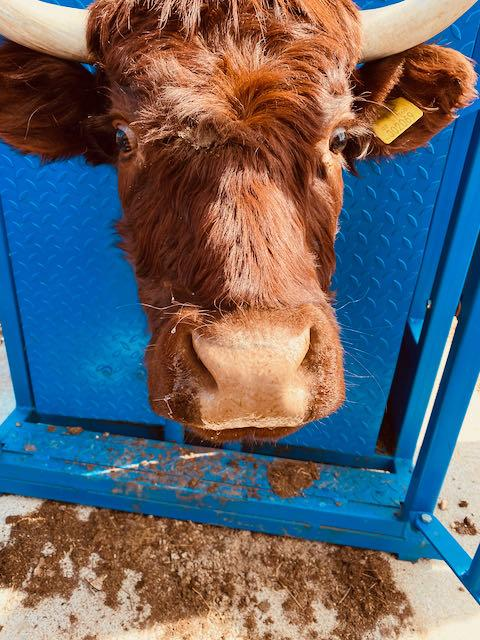muzzles: (137, 311, 348, 444)
